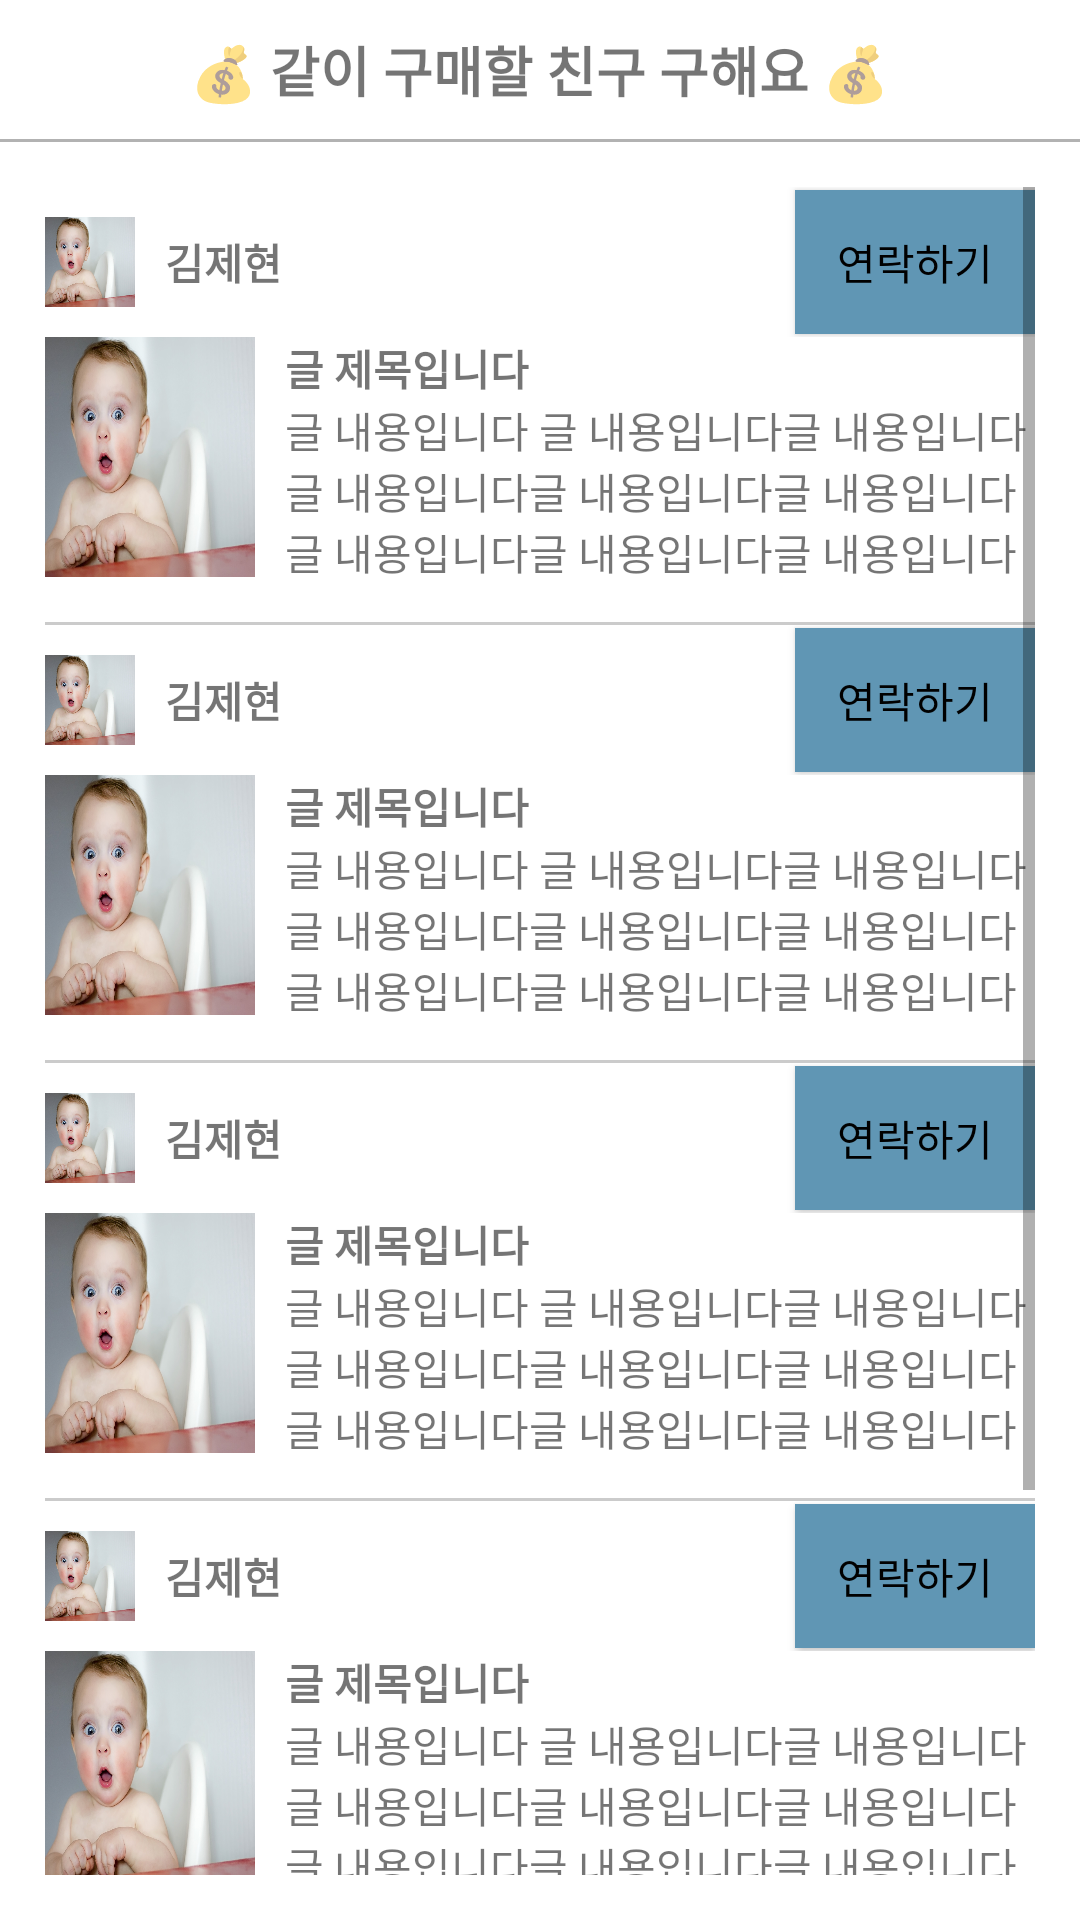

Point at icon controls on the screen. Image size 1080px x 1920px, points as point (x, y).
baby: point (90, 262), point (150, 457), point (90, 700), point (150, 895), point (90, 1138), point (150, 1333), point (90, 1576), point (150, 1763)
